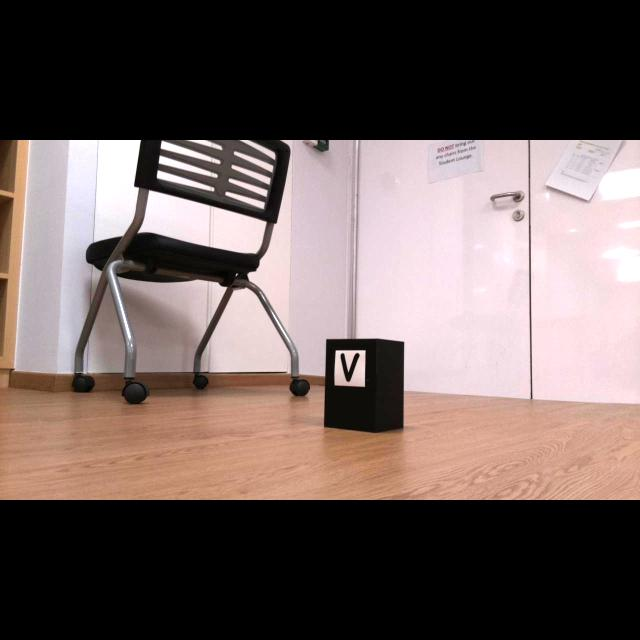V: (340, 353, 359, 382)
